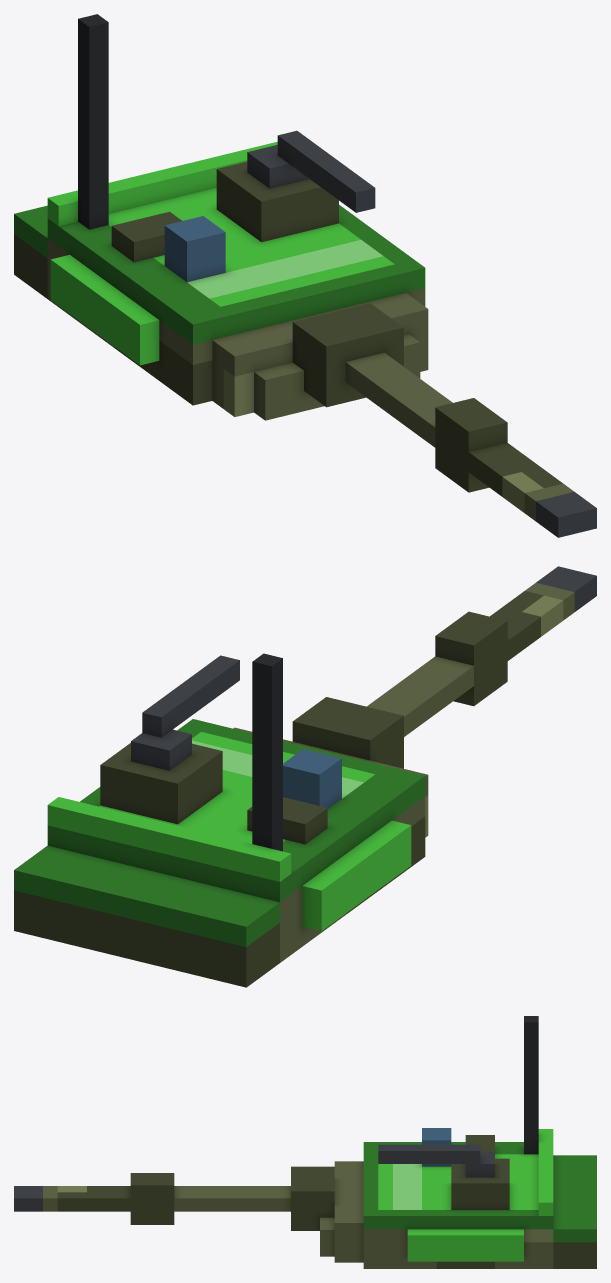
The model's file is cm_tank_g_3.glb.
The picture shows the model from 3 angles, top to bottom: view 1: azimuth 30°, elevation 25°; view 2: azimuth 150°, elevation 25°; view 3: azimuth 270°, elevation 25°; orthographic projection. The views are drawn at different scales.
Visible parts, largest first — view 1: cm_tank_g_3_body; view 2: cm_tank_g_3_body; view 3: cm_tank_g_3_body.
Boxes of the visible parts, <box> form: cm_tank_g_3_body: <box>14,14,596,537</box>; cm_tank_g_3_body: <box>14,566,596,987</box>; cm_tank_g_3_body: <box>14,1016,596,1268</box>.
Size of the model in its own units: 0.875 by 0.875 by 2.5.
Materials: 1 (1 with a texture image).
